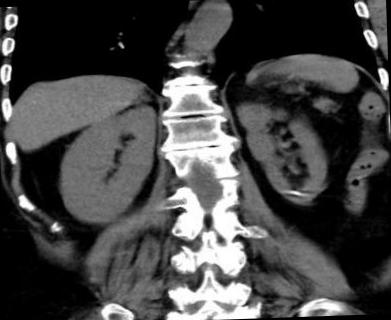Tas_Var: (288, 188, 300, 196)
